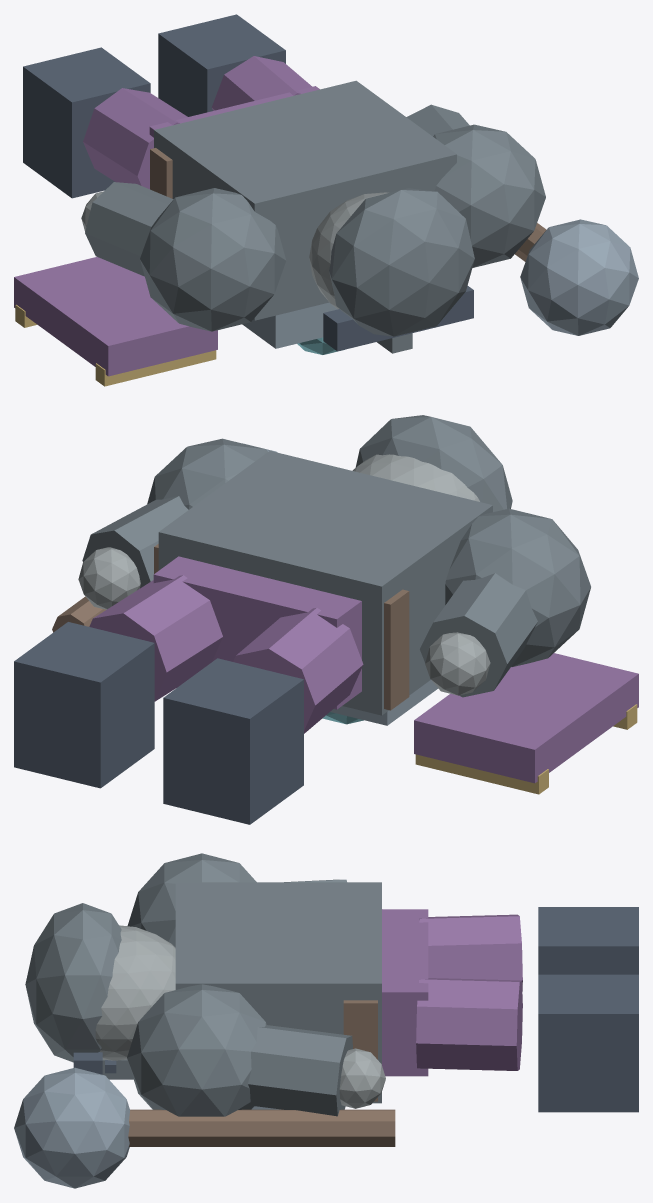
The model's file is 05_clockwork_guardian.glb.
The picture shows the model from 3 angles, top to bottom: view 1: azimuth 30°, elevation 25°; view 2: azimuth 150°, elevation 25°; view 3: azimuth 270°, elevation 25°; orthographic projection. The views are drawn at different scales.
Parts seen in each view (by area): view 1: torso, helmet, shoulder-1, shield_body, boot-1, mace_head, shoulder1, boot1, upper_leg-1, arm-1, upper_leg1, helmet_rim (+6 smaller); view 2: torso, boot-1, boot1, shield_body, shoulder-1, hips, upper_leg1, upper_leg-1, arm-1, helmet, shoulder1, arm1 (+7 smaller); view 3: torso, shoulder1, boot1, mace_head, helmet, mace_handle, upper_leg1, arm1, hips, boot-1, head, upper_leg-1 (+4 smaller).
Part boxes in pixels (left/top/right/bottom): torso: left=154, top=80, right=456, bottom=320; helmet: left=329, top=188, right=474, bottom=336; shoulder-1: left=140, top=188, right=286, bottom=331; shield_body: left=14, top=257, right=217, bottom=376; boot-1: left=23, top=47, right=150, bottom=198; mace_head: left=520, top=219, right=638, bottom=335; shoulder1: left=433, top=124, right=545, bottom=267; boot1: left=158, top=14, right=285, bottom=116; upper_leg-1: left=83, top=88, right=187, bottom=189; arm-1: left=85, top=182, right=173, bottom=276; upper_leg1: left=211, top=56, right=312, bottom=110; helmet_rim: left=323, top=286, right=473, bottom=351; torso: left=158, top=451, right=492, bottom=715; boot-1: left=163, top=658, right=303, bottom=824; boot1: left=14, top=622, right=154, bottom=788; shield_body: left=414, top=653, right=638, bottom=783; shoulder-1: left=445, top=508, right=590, bottom=666; hips: left=153, top=556, right=361, bottom=709; upper_leg1: left=89, top=575, right=222, bottom=701; upper_leg-1: left=233, top=607, right=363, bottom=733; arm-1: left=420, top=573, right=537, bottom=697; helmet: left=355, top=415, right=512, bottom=511; shoulder1: left=147, top=438, right=267, bottom=509; arm1: left=82, top=496, right=188, bottom=588; torso: left=175, top=882, right=381, bottom=1103; shoulder1: left=127, top=984, right=266, bottom=1116; boot1: left=538, top=974, right=638, bottom=1112; mace_head: left=14, top=1067, right=129, bottom=1188; helmet: left=25, top=903, right=121, bottom=1062; mace_handle: left=128, top=1109, right=395, bottom=1146; upper_leg1: left=416, top=978, right=522, bottom=1070; arm1: left=248, top=1025, right=352, bottom=1116; hips: left=382, top=909, right=428, bottom=1076; boot-1: left=538, top=907, right=638, bottom=974; head: left=95, top=925, right=175, bottom=1060; upper_leg-1: left=419, top=914, right=522, bottom=991.
Size of the model in its own units: 2.09 by 0.935 by 2.36.
